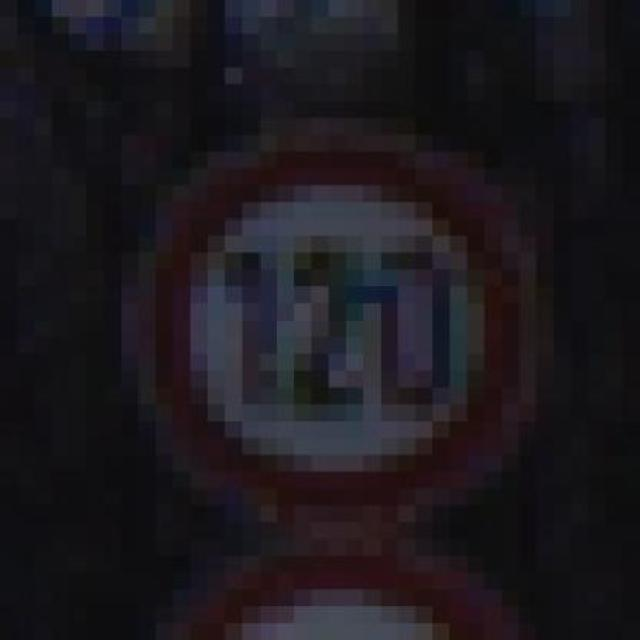forb_speed_over_120: (145, 144, 518, 504)
